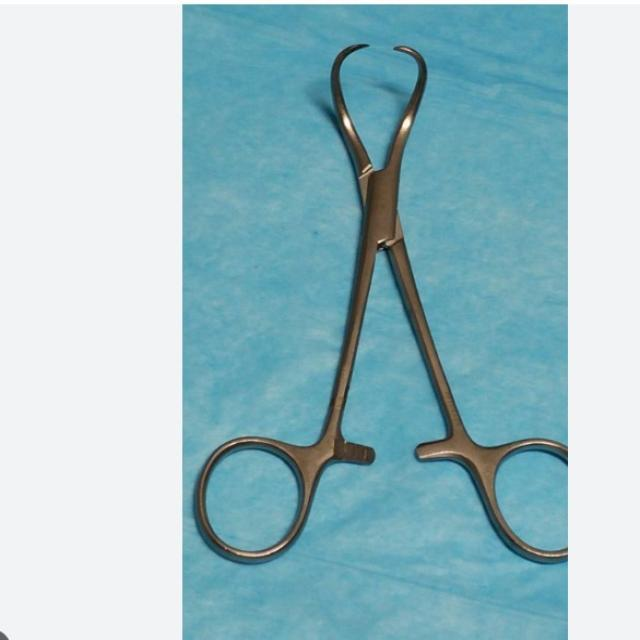Backhaus Towel Clamp: (194, 28, 572, 578)
